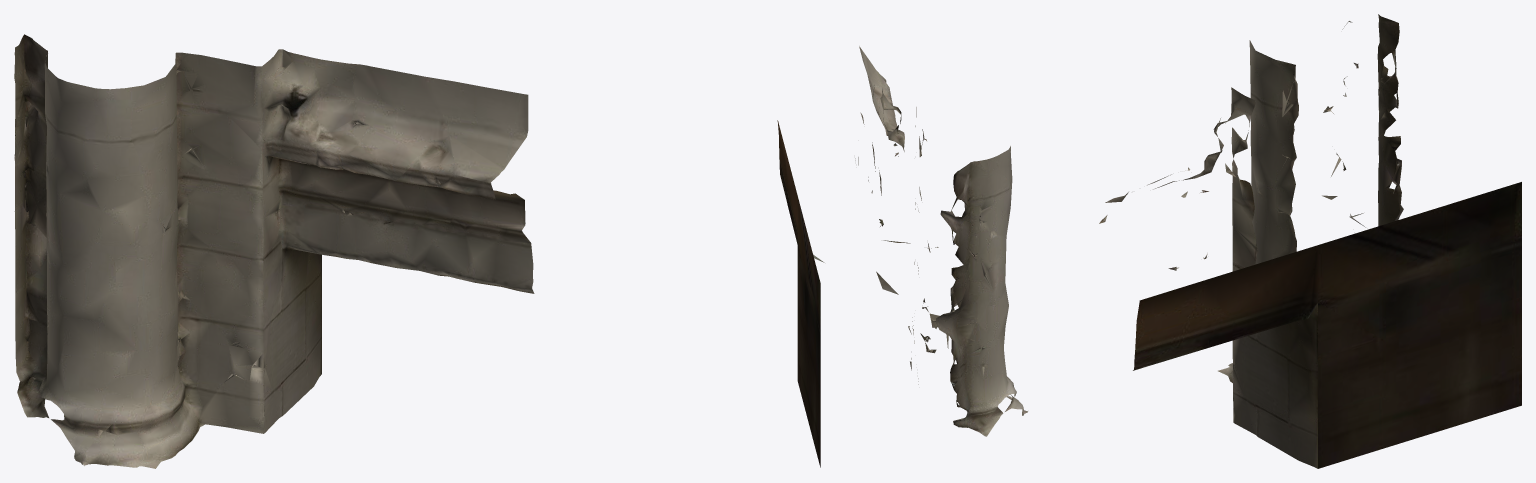
3 views of the same model, side by side, from view 1: azimuth 30°, elevation 25°; view 2: azimuth 150°, elevation 25°; view 3: azimuth 270°, elevation 25° (orthographic). The views are drawn at different scales.
Size of the model in its own units: 2.81 by 2.49 by 3.13.
Materials: 1 (1 with a texture image).
